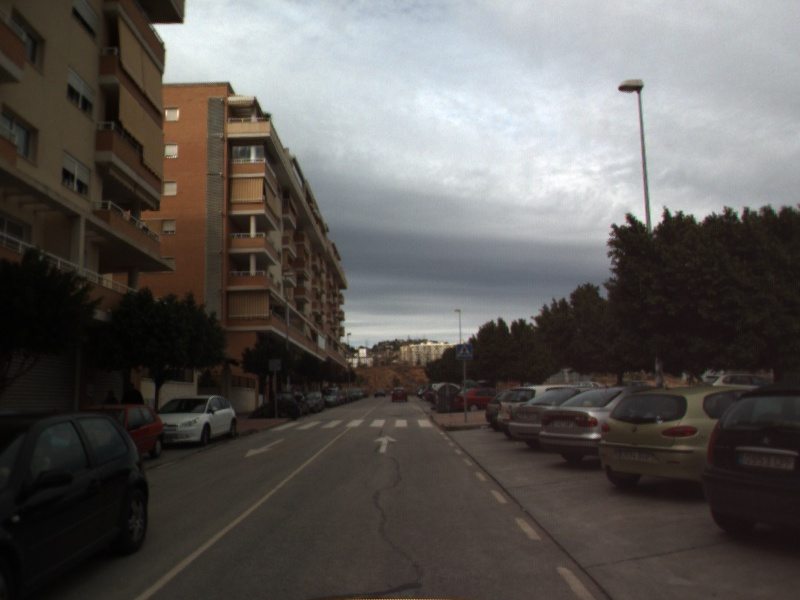STRAIGHT: (372, 433, 400, 454)
